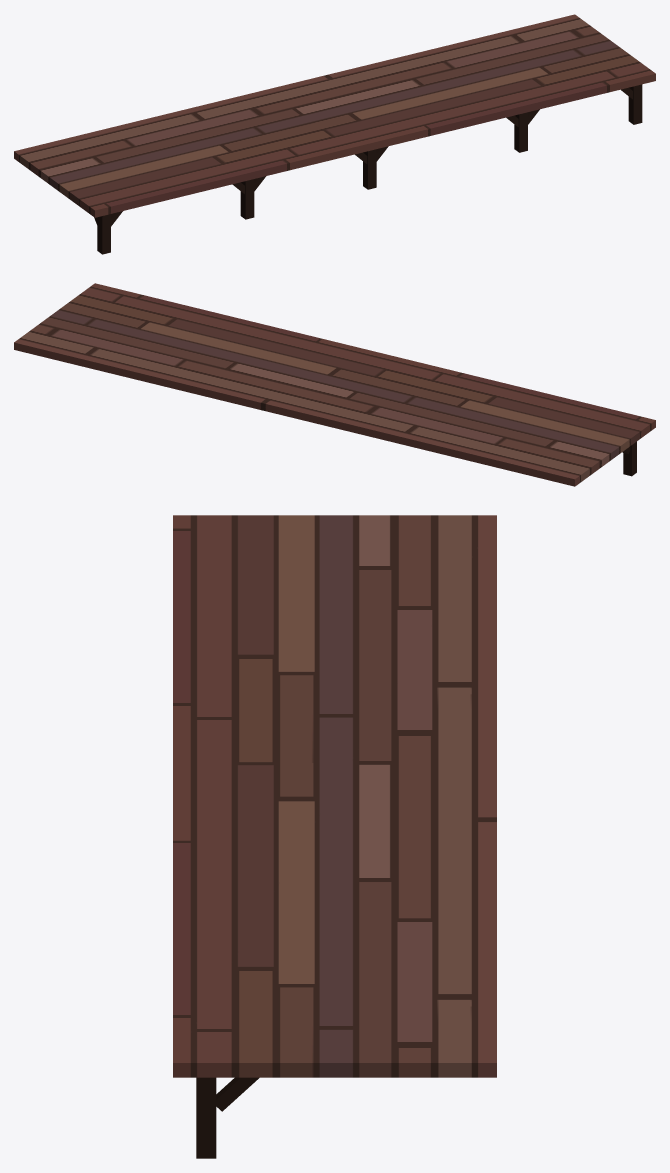
The model's file is Deck 8M v01.glb.
The picture shows the model from 3 angles, top to bottom: view 1: azimuth 30°, elevation 25°; view 2: azimuth 150°, elevation 25°; view 3: azimuth 270°, elevation 25°; orthographic projection. The views are drawn at different scales.
Visible parts, largest first — view 1: Deck 8M v1; view 2: Deck 8M v1; view 3: Deck 8M v1.
Part boxes in pixels (bbox=[...]): Deck 8M v1: bbox=[14, 14, 655, 254]; Deck 8M v1: bbox=[14, 283, 655, 486]; Deck 8M v1: bbox=[173, 515, 496, 1158].
Size of what is drawn, in the model's own units: 8 by 0.7025 by 2.
2 materials, 2 textured.
